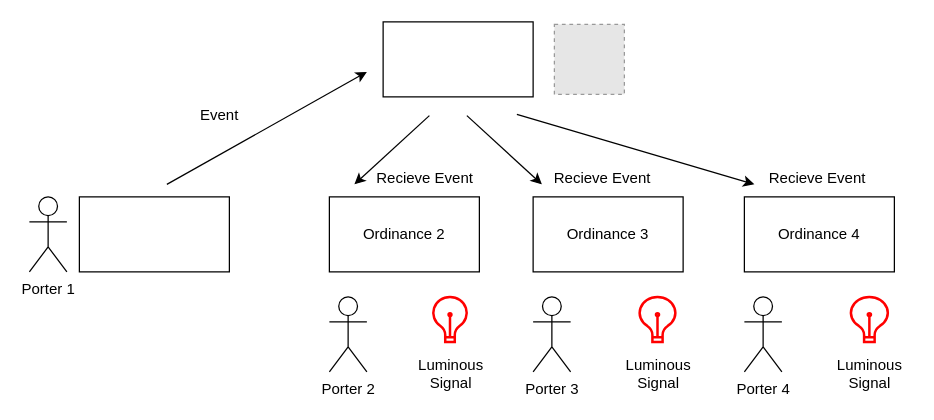
Image size: 934x420. Some labels were removed from this diagram. Grey dashed boxes stand in for pictures. Each missing label, with the box of its shape:
Ordinance 1: (78, 196, 229, 272)
Server: (382, 21, 533, 97)
